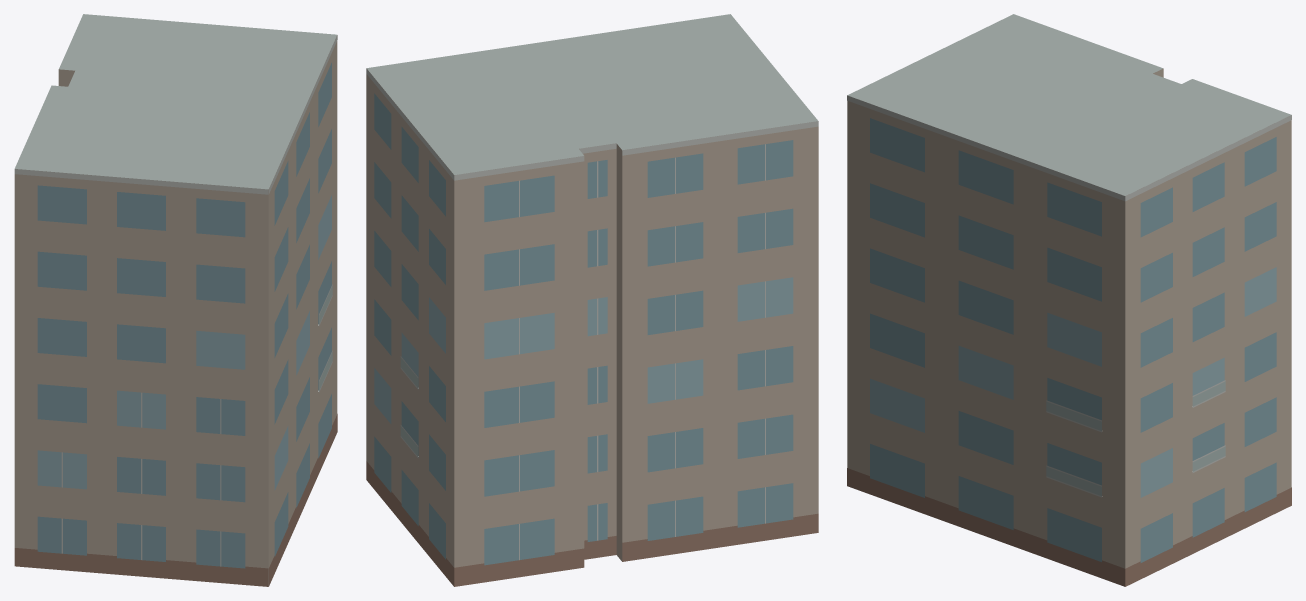
File: survey-upis-32969314.glb
3 views of the same model, side by side, from view 1: azimuth 30°, elevation 25°; view 2: azimuth 150°, elevation 25°; view 3: azimuth 270°, elevation 25° (orthographic). The views are drawn at different scales.
Parts seen in each view (by area): view 1: survey-upis-32969314.tmp; view 2: survey-upis-32969314.tmp; view 3: survey-upis-32969314.tmp.
Boxes of the visible parts, x1,y1,x2,y2 form: survey-upis-32969314.tmp: (14,14,337,586); survey-upis-32969314.tmp: (366,14,818,586); survey-upis-32969314.tmp: (847,14,1291,586).
Bounding box in the file's own units: 18.3 × 18.3 × 18.88.
